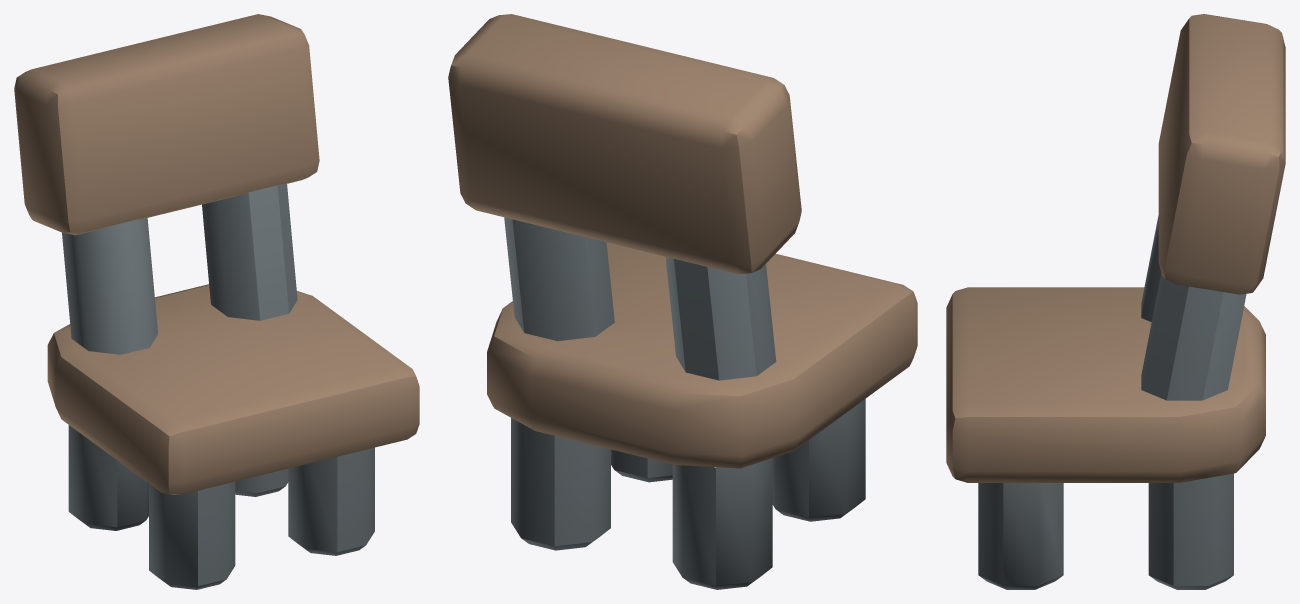
File: kit_chair.glb
3 views of the same model, side by side, from view 1: azimuth 30°, elevation 25°; view 2: azimuth 150°, elevation 25°; view 3: azimuth 270°, elevation 25° (orthographic). The views are drawn at different scales.
Visible parts, largest first — view 1: chair_A; view 2: chair_A; view 3: chair_A.
Boxes of the visible parts, <box> form: chair_A: <box>14,14,419,589</box>; chair_A: <box>448,14,917,589</box>; chair_A: <box>946,14,1285,589</box>.
Size of the model in its own units: 0.3758 by 0.6052 by 0.3989.
Materials: 1 (1 with a texture image).
